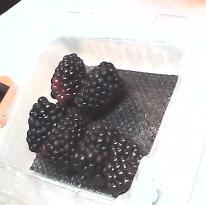berry: (38, 112, 87, 170), (73, 124, 118, 184), (74, 62, 123, 116), (103, 136, 140, 196), (28, 97, 69, 151), (50, 53, 85, 104)
